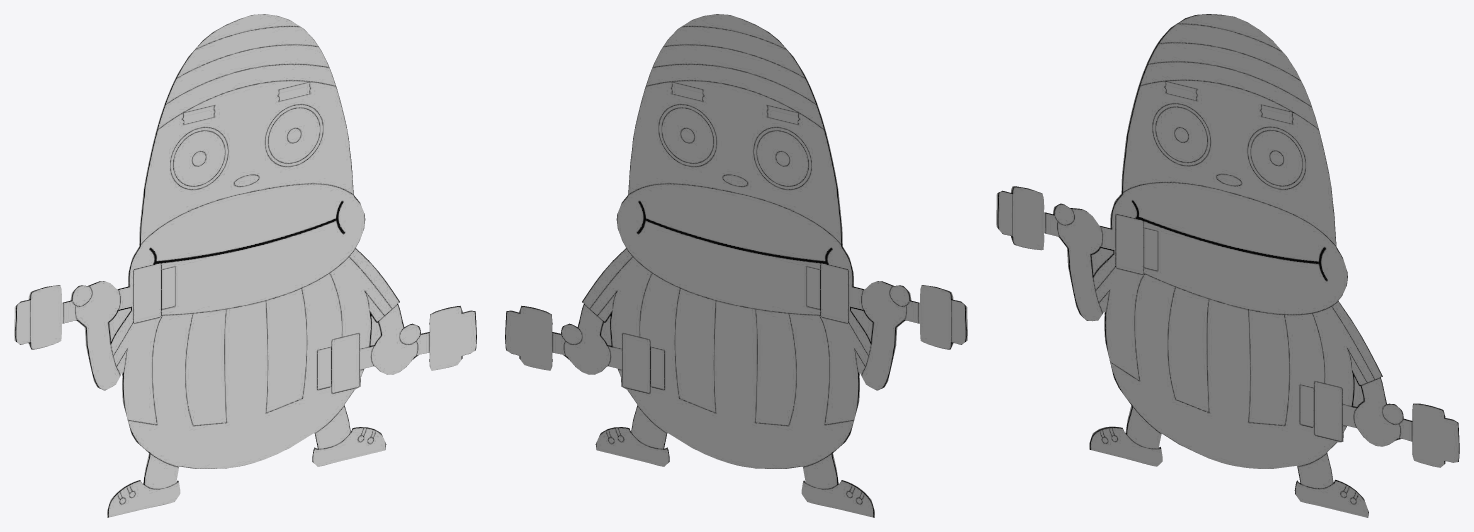
Rendered from 45_dogle_fix.fbx.
3 views of the same model, side by side, from view 1: azimuth 30°, elevation 25°; view 2: azimuth 150°, elevation 25°; view 3: azimuth 330°, elevation 25° (orthographic).
Visible parts, largest first — view 1: planarTrimmedSurface32; view 2: planarTrimmedSurface32; view 3: planarTrimmedSurface32.
Boxes of the visible parts, bbox=[...] form: planarTrimmedSurface32: bbox=[14, 14, 476, 517]; planarTrimmedSurface32: bbox=[505, 14, 967, 517]; planarTrimmedSurface32: bbox=[996, 14, 1459, 517].
Size of the model in its own units: 13.75 by 13.3 by 2.17e-06.
Materials: 1 (1 with a texture image).
